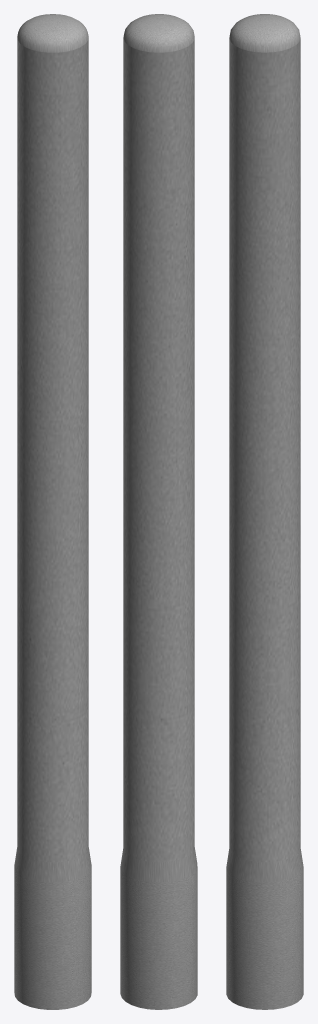
The model's file is body.glb.
The picture shows the model from 3 angles, left to right: view 1: azimuth 90°, elevation 25°; view 2: azimuth 210°, elevation 25°; view 3: azimuth 270°, elevation 25°; orthographic projection.
Visible parts, largest first — view 1: body; view 2: body; view 3: body.
Part boxes in pixels (box(x1,y1,x2,y2)): body: box(14, 14, 91, 1009); body: box(120, 14, 197, 1009); body: box(226, 14, 303, 1009).
Bounding box in the file's own units: 2.19 × 30.48 × 2.19.
Materials: 1 (1 with a texture image).
